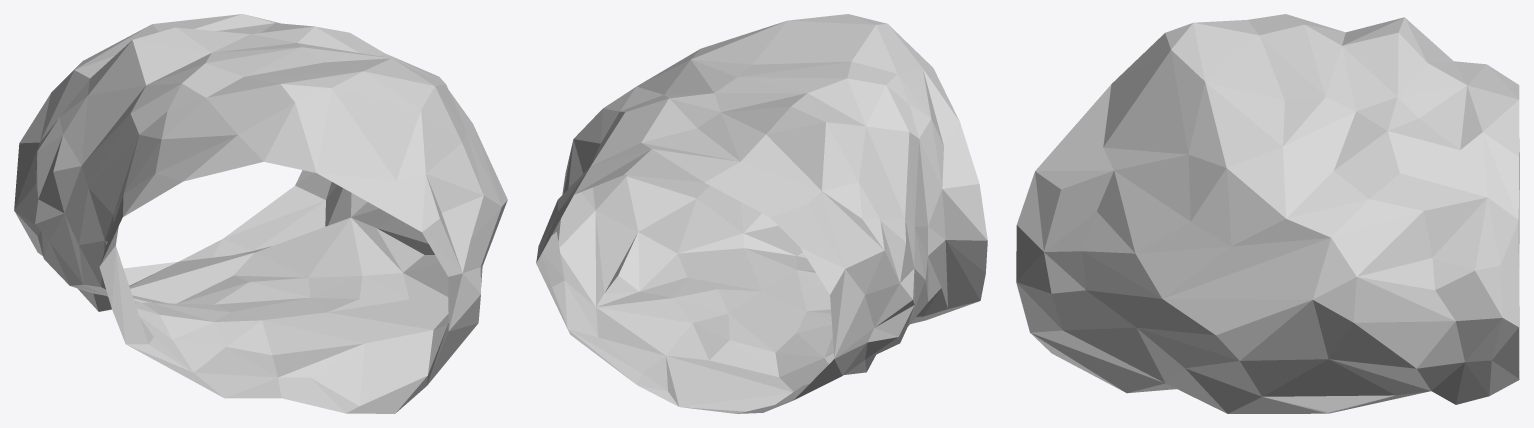
Rendered from BendR_Short_Rock_1.glb.
3 renders of one model, left to right at view 1: azimuth 30°, elevation 25°; view 2: azimuth 150°, elevation 25°; view 3: azimuth 270°, elevation 25°, orthographic. The views are drawn at different scales.
Visible parts, largest first — view 1: BendR_Short_Rock_1; view 2: BendR_Short_Rock_1; view 3: BendR_Short_Rock_1.
Boxes of the visible parts, x1,y1,x2,y2 form: BendR_Short_Rock_1: [14, 14, 507, 413]; BendR_Short_Rock_1: [536, 14, 987, 413]; BendR_Short_Rock_1: [1016, 14, 1519, 413].
Size of the model in its own units: 126 by 91.34 by 130.
Materials: 1 (1 with a texture image).
